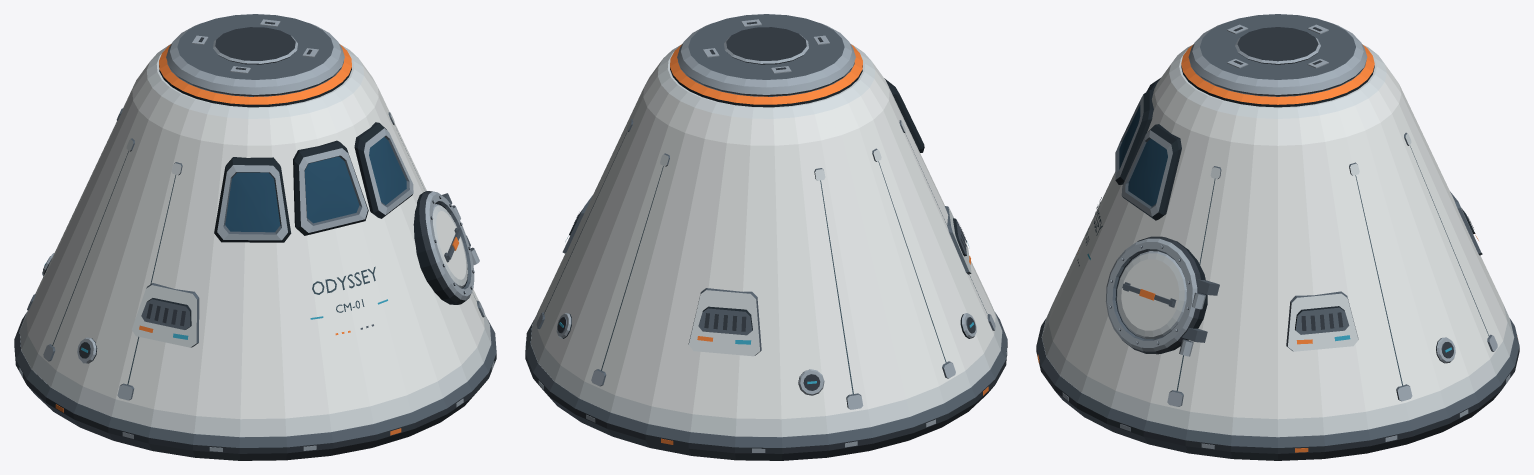
File: cabina_mando.glb
3 renders of one model, left to right at view 1: azimuth 30°, elevation 25°; view 2: azimuth 150°, elevation 25°; view 3: azimuth 270°, elevation 25°, orthographic.
Visible parts, largest first — view 1: Casco cerámico troncocónico, Escudo térmico perimetral, Corona estructural superior, Panel técnico de babor, Marco circular de escotilla, Cristal de ventana izquierda, Marco de ventana izquierda, Marco de ventana central, Cristal de ventana central, Guarnición superior, Tapón superior, Marco de ventana derecha (+7 smaller); view 2: Casco cerámico troncocónico, Escudo térmico perimetral, Corona estructural superior, Panel técnico de popa, Guarnición superior, Tapón superior, Juntas radiales y placas de unión, Tomas exteriores de servicio, Panel técnico de babor, Marco de ventana izquierda, Topes de la corona superior; view 3: Casco cerámico troncocónico, Escudo térmico perimetral, Corona estructural superior, Tapa circular de escotilla, Marco circular de escotilla, Panel técnico de estribor, Guarnición superior, Tapón superior, Marco de ventana derecha, Cristal de ventana derecha, Juntas radiales y placas de unión, Bisagras, tirador y pernos de escotilla (+2 smaller).
Boxes of the visible parts, x1,y1,x2,y2 form: Casco cerámico troncocónico: (19, 44, 491, 436); Escudo térmico perimetral: (14, 312, 496, 460); Corona estructural superior: (166, 14, 344, 96); Panel técnico de babor: (132, 283, 199, 347); Marco circular de escotilla: (413, 191, 474, 304); Cristal de ventana izquierda: (225, 172, 280, 232); Marco de ventana izquierda: (214, 157, 291, 242); Marco de ventana central: (293, 140, 368, 235); Cristal de ventana central: (304, 156, 359, 223); Guarnición superior: (159, 44, 351, 107); Tapón superior: (213, 27, 297, 64); Marco de ventana derecha: (354, 122, 413, 218); Casco cerámico troncocónico: (530, 44, 1002, 436); Escudo térmico perimetral: (525, 312, 1007, 460); Corona estructural superior: (677, 14, 855, 96); Panel técnico de popa: (688, 288, 761, 356); Guarnición superior: (670, 44, 862, 107); Tapón superior: (724, 27, 808, 64); Juntas radiales y placas de unión: (536, 119, 995, 409); Tomas exteriores de servicio: (556, 313, 976, 395); Panel técnico de babor: (945, 206, 971, 274); Marco de ventana izquierda: (884, 78, 924, 152); Topes de la corona superior: (703, 19, 829, 73); Casco cerámico troncocónico: (1042, 45, 1513, 436); Escudo térmico perimetral: (1036, 318, 1519, 460); Corona estructural superior: (1188, 14, 1367, 96); Tapa circular de escotilla: (1116, 251, 1186, 339); Marco circular de escotilla: (1105, 236, 1207, 354); Panel técnico de estribor: (1286, 291, 1358, 351); Guarnición superior: (1181, 44, 1374, 107); Tapón superior: (1235, 27, 1320, 64); Marco de ventana derecha: (1121, 124, 1181, 220); Cristal de ventana derecha: (1128, 139, 1167, 206); Juntas radiales y placas de unión: (1167, 132, 1497, 406); Bisagras, tirador y pernos de escotilla: (1108, 245, 1219, 356).
Bounding box in the file's own units: 3 × 2.4 × 3.
